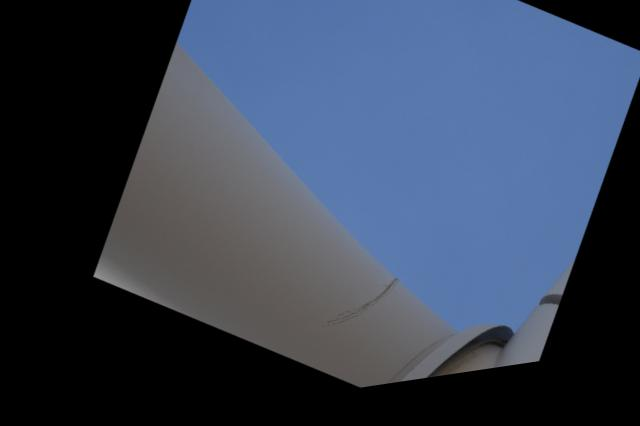damage: (294, 260, 395, 360)
